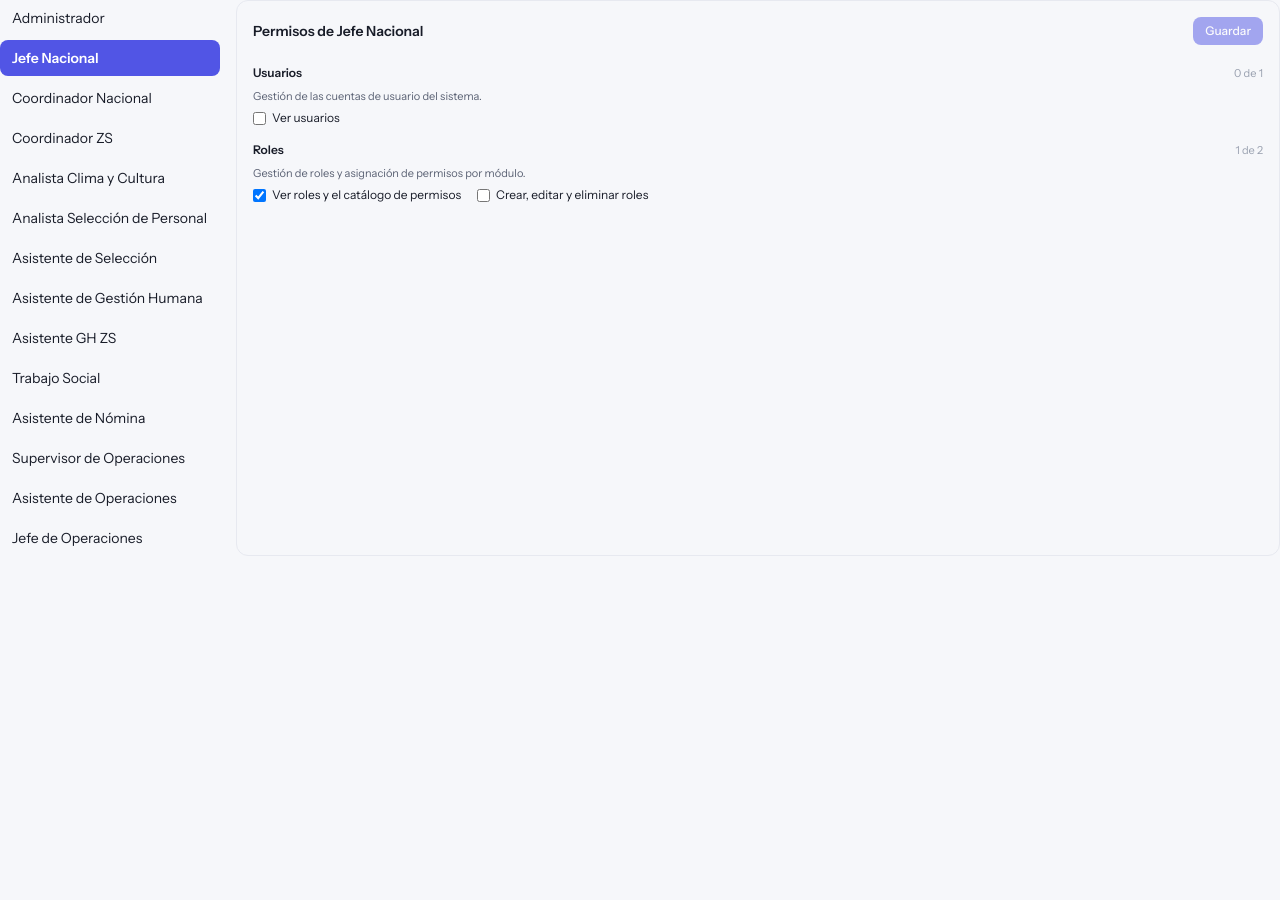
Test: RolesPermissionsManager › advierte autobloqueo al quitarse roles.ver a sí mismo, sin bloquear el guardado
The width and height of the screenshot is (1280, 900).
expect the heading "Permisos de Jefe Nacional" is shown: met, box [253,21,424,41]
Click the checkbox labelled "Ver roles y el catálogo de permisos".
click(260, 195)  # box [253,188,266,202]
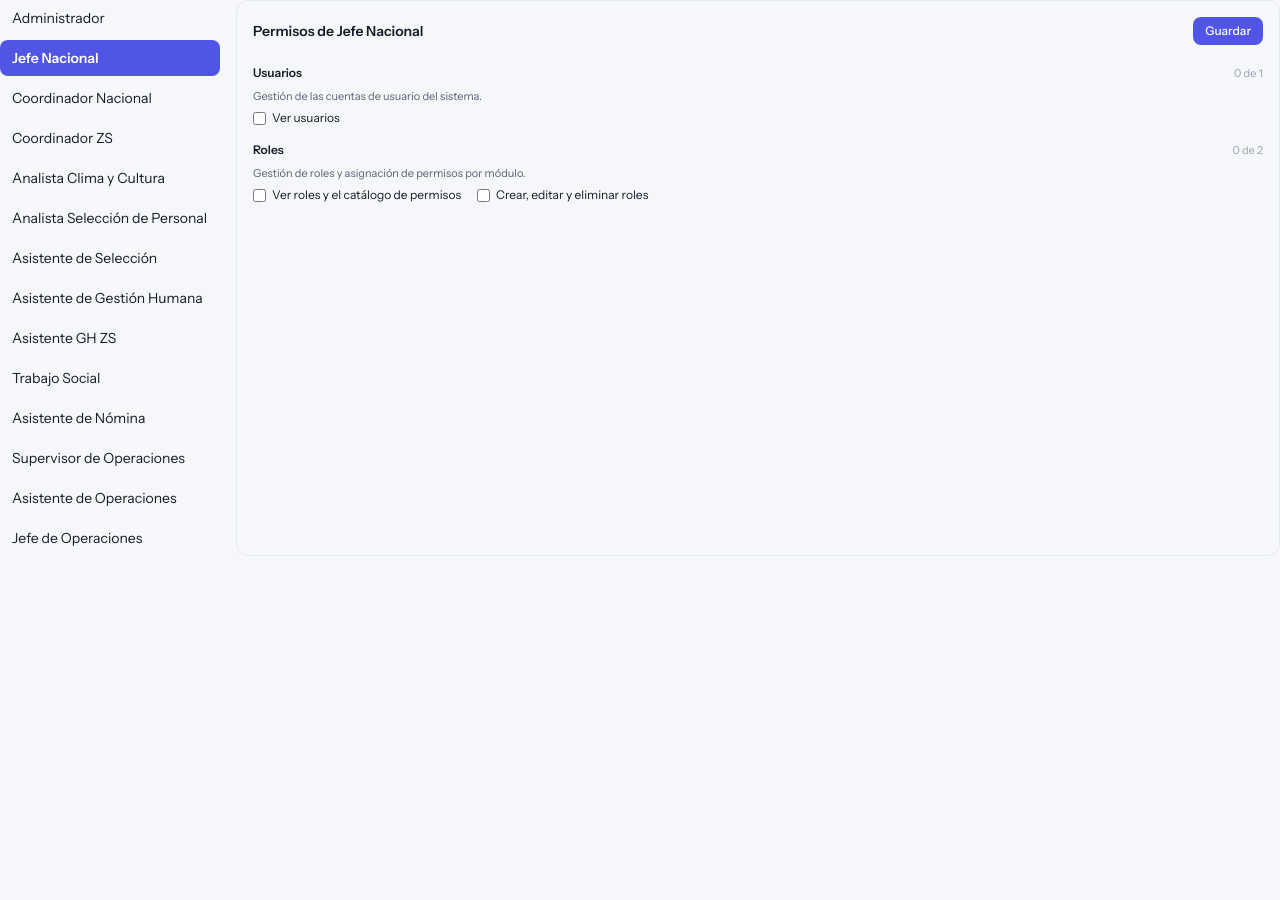
Click the button "Guardar".
click(1228, 31)  # box [1193,17,1263,45]
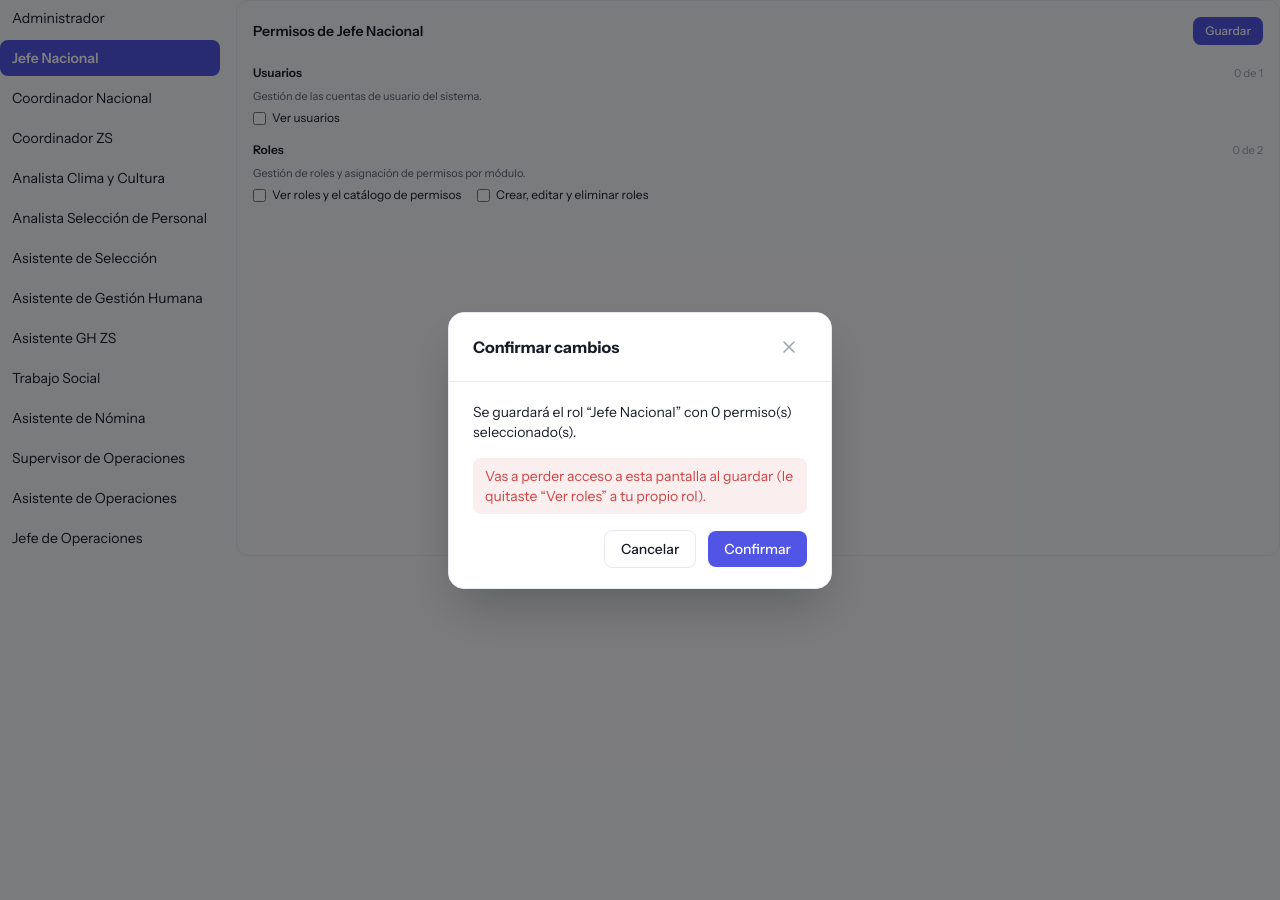
expect the heading "Confirmar cambios" is shown: met, box [473,334,619,358]
expect the text "Vas a perder acceso a esta pantalla" is shown: met, box [485,466,793,504]
